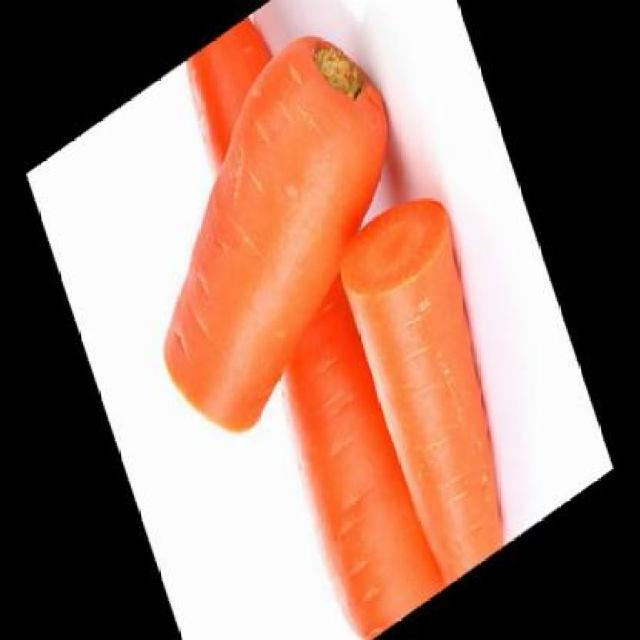carrot: (162, 3, 458, 639), (101, 0, 448, 465), (329, 169, 551, 586)
